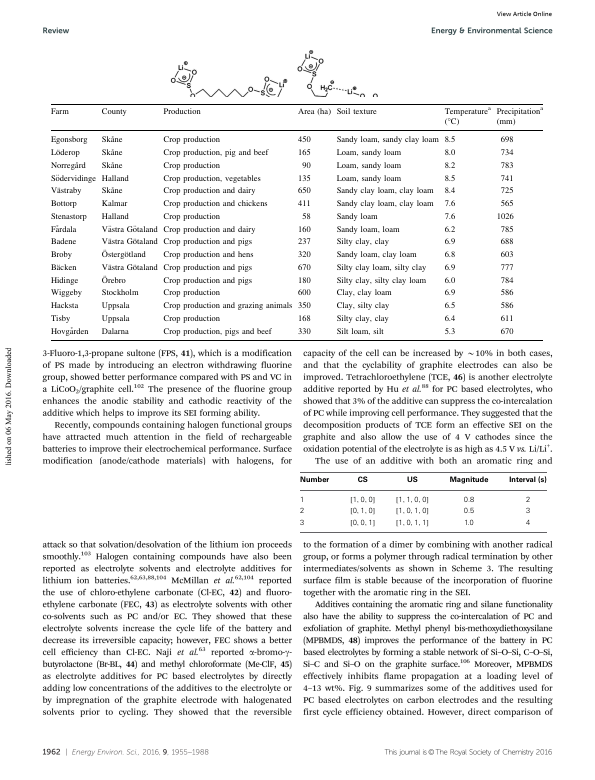borderless: (50, 102, 543, 340), (299, 470, 547, 532)
cell: (162, 301, 293, 311), (162, 327, 272, 337), (443, 105, 492, 127), (495, 105, 544, 127), (162, 148, 269, 158), (162, 199, 268, 209), (335, 136, 440, 146), (162, 174, 261, 184), (335, 187, 434, 197), (335, 199, 434, 209), (162, 187, 256, 197), (162, 225, 256, 235), (162, 250, 254, 260), (335, 263, 427, 273), (335, 276, 427, 286), (162, 238, 253, 248), (162, 263, 253, 273), (162, 276, 253, 286), (335, 250, 417, 260), (335, 148, 402, 158), (335, 161, 402, 171), (335, 174, 402, 184), (335, 225, 400, 235), (162, 136, 221, 146), (162, 161, 221, 171), (162, 212, 221, 222), (162, 289, 221, 299), (162, 314, 221, 324), (100, 225, 158, 235), (100, 238, 158, 248), (100, 263, 158, 273), (335, 289, 392, 299), (335, 301, 390, 311), (335, 238, 389, 248), (335, 314, 389, 324), (100, 249, 146, 260), (335, 327, 384, 337), (50, 174, 97, 184), (335, 212, 378, 222), (335, 107, 377, 117), (162, 107, 201, 117), (100, 289, 139, 299), (50, 327, 89, 337), (50, 136, 88, 146), (50, 212, 87, 222), (448, 476, 489, 485), (50, 161, 86, 171), (508, 476, 547, 485), (297, 107, 332, 117), (50, 289, 83, 299), (50, 187, 82, 197), (394, 495, 429, 504), (394, 518, 429, 527), (100, 274, 126, 286), (50, 148, 80, 158), (100, 301, 130, 311), (100, 314, 130, 324), (100, 174, 129, 184), (100, 212, 129, 222), (50, 276, 79, 286), (50, 301, 79, 311), (100, 327, 129, 337), (298, 476, 330, 485), (100, 199, 128, 209), (394, 507, 429, 515), (100, 107, 127, 117), (50, 199, 77, 209), (50, 225, 77, 235), (50, 238, 77, 248), (50, 263, 77, 273), (100, 135, 123, 146), (100, 186, 123, 197), (349, 495, 376, 504), (349, 518, 376, 527), (100, 148, 123, 158), (100, 161, 123, 171), (50, 250, 73, 260), (349, 507, 376, 515), (50, 314, 71, 324), (49, 107, 69, 117), (495, 212, 514, 222), (499, 136, 514, 146), (499, 148, 514, 158), (499, 161, 514, 171), (499, 174, 514, 184), (499, 187, 514, 197), (499, 199, 514, 209), (499, 225, 514, 235), (499, 238, 514, 248), (499, 250, 514, 260), (499, 263, 514, 273), (499, 276, 514, 286), (499, 289, 514, 299), (499, 301, 514, 311), (499, 314, 514, 324), (499, 327, 514, 337), (297, 136, 311, 146), (297, 148, 311, 158), (297, 174, 311, 184), (297, 187, 311, 197), (297, 199, 311, 209), (297, 225, 311, 235), (297, 238, 311, 248), (297, 250, 311, 260), (297, 263, 311, 273), (297, 276, 311, 286), (297, 289, 311, 299), (297, 301, 311, 311), (297, 314, 311, 324), (297, 327, 311, 337), (443, 136, 456, 146), (443, 148, 456, 158), (443, 161, 456, 171), (443, 174, 456, 184), (443, 187, 456, 197), (443, 199, 456, 209), (443, 212, 456, 222), (443, 225, 456, 235), (443, 238, 456, 248), (443, 250, 456, 260), (443, 263, 456, 273), (443, 276, 456, 286), (443, 289, 456, 299), (443, 301, 456, 311), (443, 314, 456, 324), (443, 327, 456, 337), (405, 476, 418, 485), (356, 476, 368, 485), (462, 495, 475, 503), (301, 161, 311, 171), (301, 212, 311, 222), (462, 507, 475, 514), (463, 518, 474, 526), (298, 495, 305, 503), (524, 495, 530, 503), (299, 518, 305, 526), (524, 518, 530, 526), (299, 507, 305, 514), (524, 507, 530, 514)
